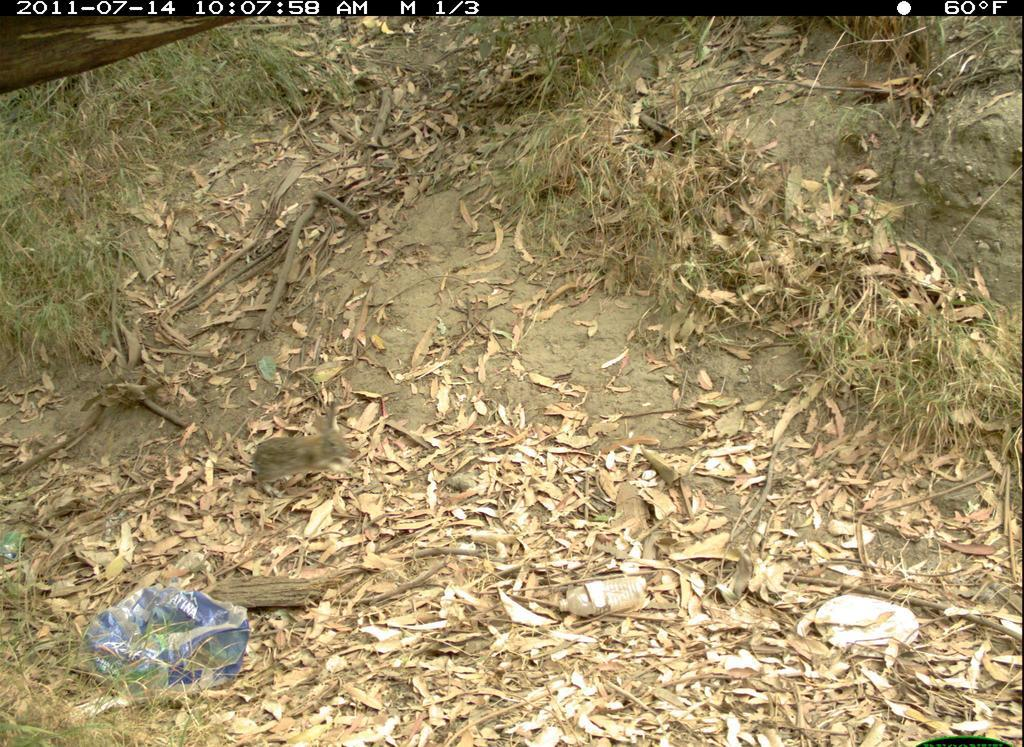rabbit: (248, 391, 381, 501)
